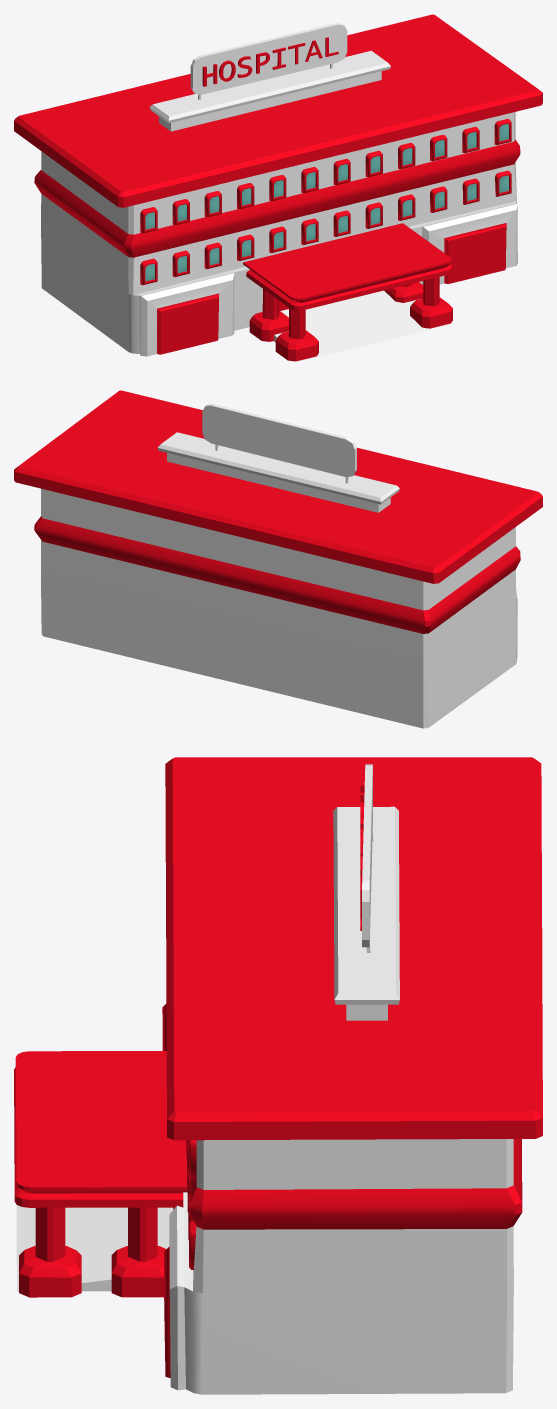
File: SM_Hospital.fbx
3 renders of one model, top to bottom at view 1: azimuth 30°, elevation 25°; view 2: azimuth 150°, elevation 25°; view 3: azimuth 270°, elevation 25°, orthographic. The views are drawn at different scales.
Visible parts, largest first — view 1: SM_Hospital; view 2: SM_Hospital; view 3: SM_Hospital.
Boxes of the visible parts, bbox=[...] form: SM_Hospital: bbox=[14, 14, 542, 361]; SM_Hospital: bbox=[14, 390, 542, 728]; SM_Hospital: bbox=[14, 757, 542, 1394].
Bounding box in the file's own units: 2638 × 1370 × 1632.
